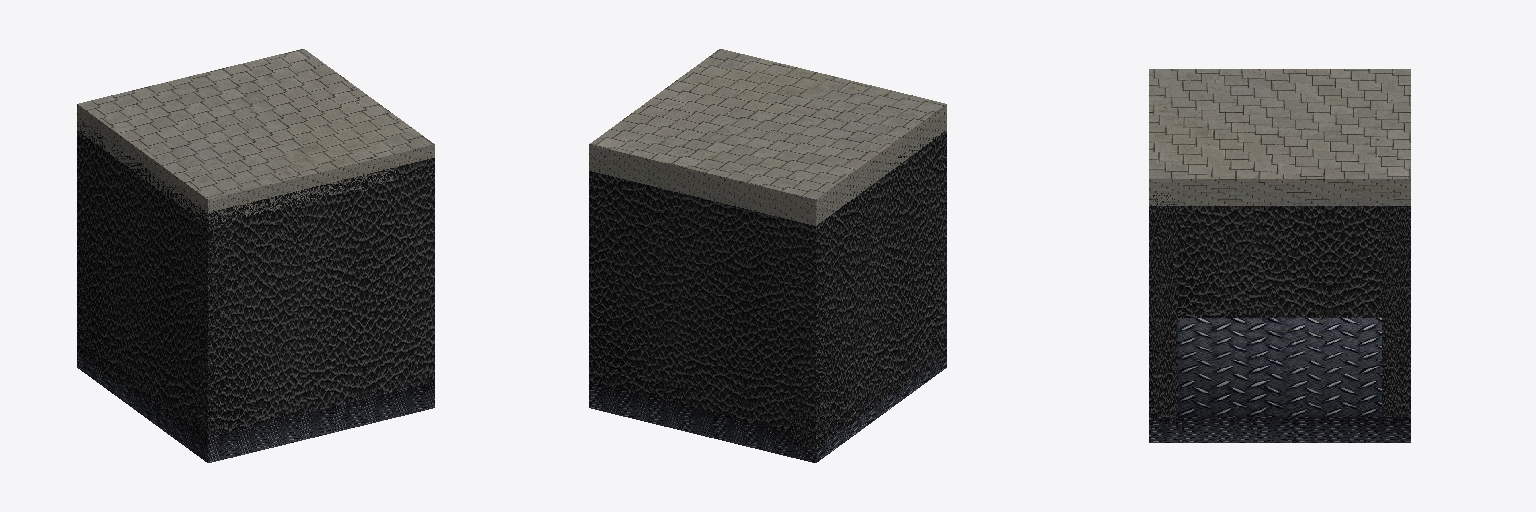
The picture shows the model from 3 angles: view 1: azimuth 30°, elevation 25°; view 2: azimuth 150°, elevation 25°; view 3: azimuth 270°, elevation 25°; orthographic projection.
Visible parts, largest first — view 1: Left_Wall, Ceiling, Front_Wall, Floor, Right_Wall; view 2: Right_Wall, Ceiling, Front_Wall, Floor; view 3: Ceiling, Floor, Front_Wall, Left_Wall, Right_Wall.
Boxes of the visible parts, x1=… form: Left_Wall: x1=194, y1=158, x2=434, y2=446; Ceiling: x1=77, y1=49, x2=434, y2=224; Front_Wall: x1=77, y1=122, x2=232, y2=441; Floor: x1=77, y1=345, x2=434, y2=462; Right_Wall: x1=77, y1=192, x2=91, y2=351; Right_Wall: x1=589, y1=171, x2=829, y2=436; Ceiling: x1=589, y1=49, x2=946, y2=225; Front_Wall: x1=791, y1=131, x2=946, y2=449; Floor: x1=589, y1=348, x2=946, y2=462; Ceiling: x1=1149, y1=69, x2=1410, y2=205; Floor: x1=1149, y1=318, x2=1410, y2=442; Front_Wall: x1=1178, y1=206, x2=1381, y2=317; Left_Wall: x1=1149, y1=193, x2=1177, y2=429; Right_Wall: x1=1382, y1=206, x2=1410, y2=416.
Size of the model in its own units: 18 by 20 by 18.
Materials: 5 (3 with a texture image).